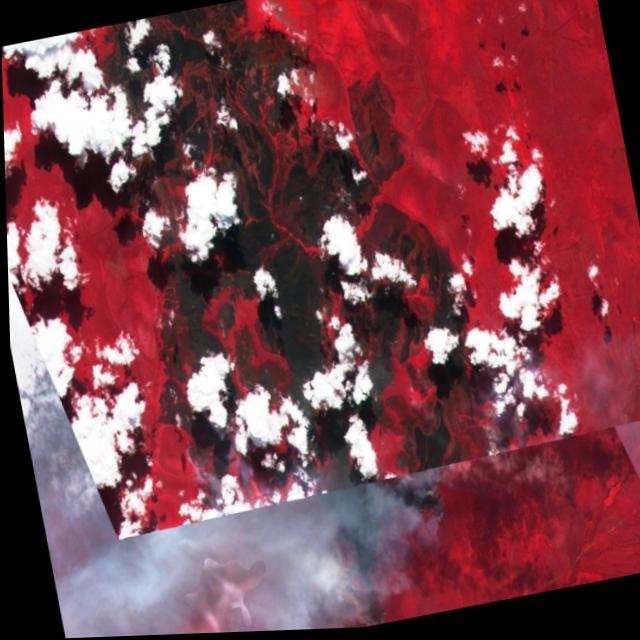fire: (412, 488, 445, 535)
